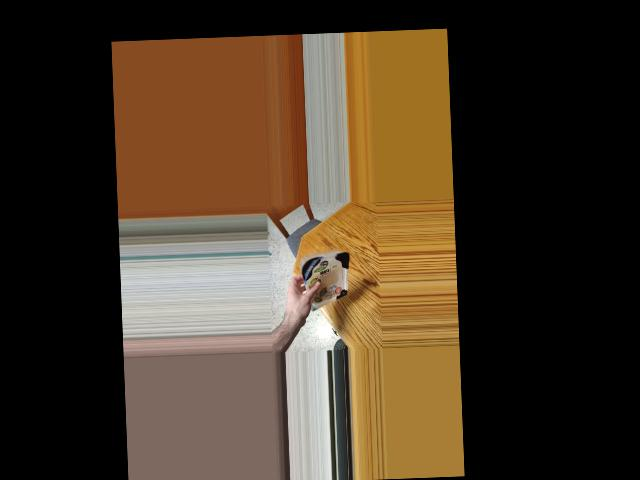cheese: (298, 246, 348, 300)
